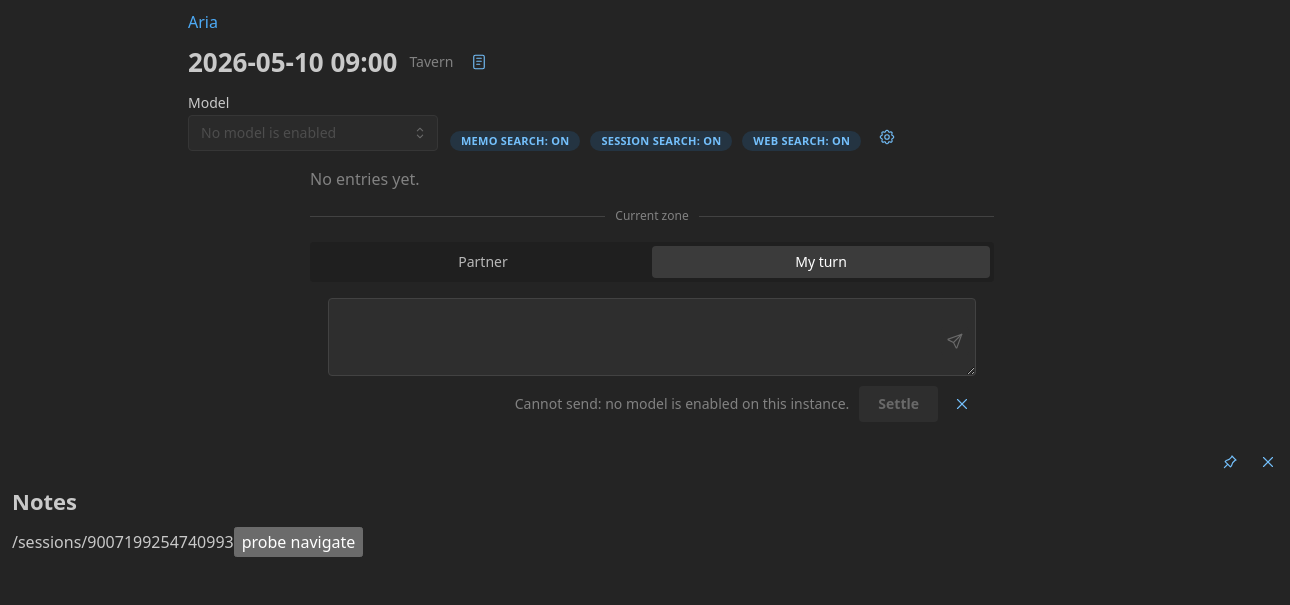
017 step 011 — the header bar and the Send gate on the ready screen (US-107, US-105.AC-1, D16, D17) › captured model null and models []: the bar sits in the header after the heading and before the composer; the composer shows the no-model reason and Send stays d
This screenshot has width=1290, height=605.
Expected: the text "Cannot send: no model is enabled on this instance." is shown, [515,394,849,414]
Type "Hello" into the text box named "Composer" at [652, 337], box [328,298,976,376]
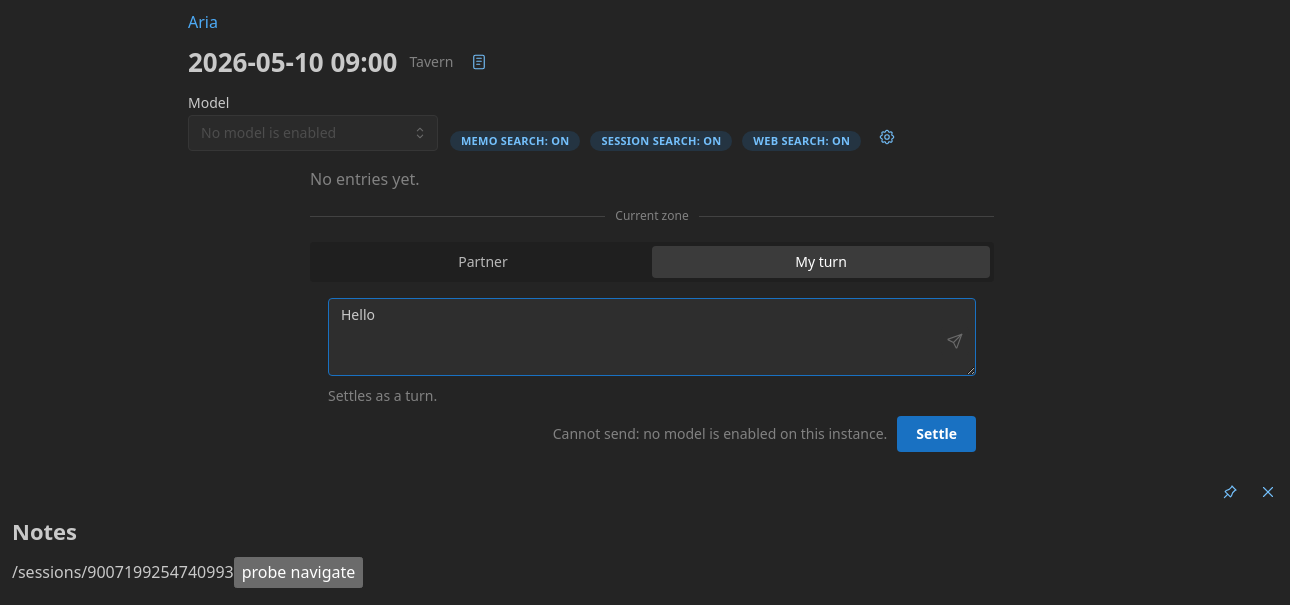
Expected: the button named "Send" is disabled, [941,327,969,355]
Now the button "Settle" is enabled, box [897,416,976,452]
